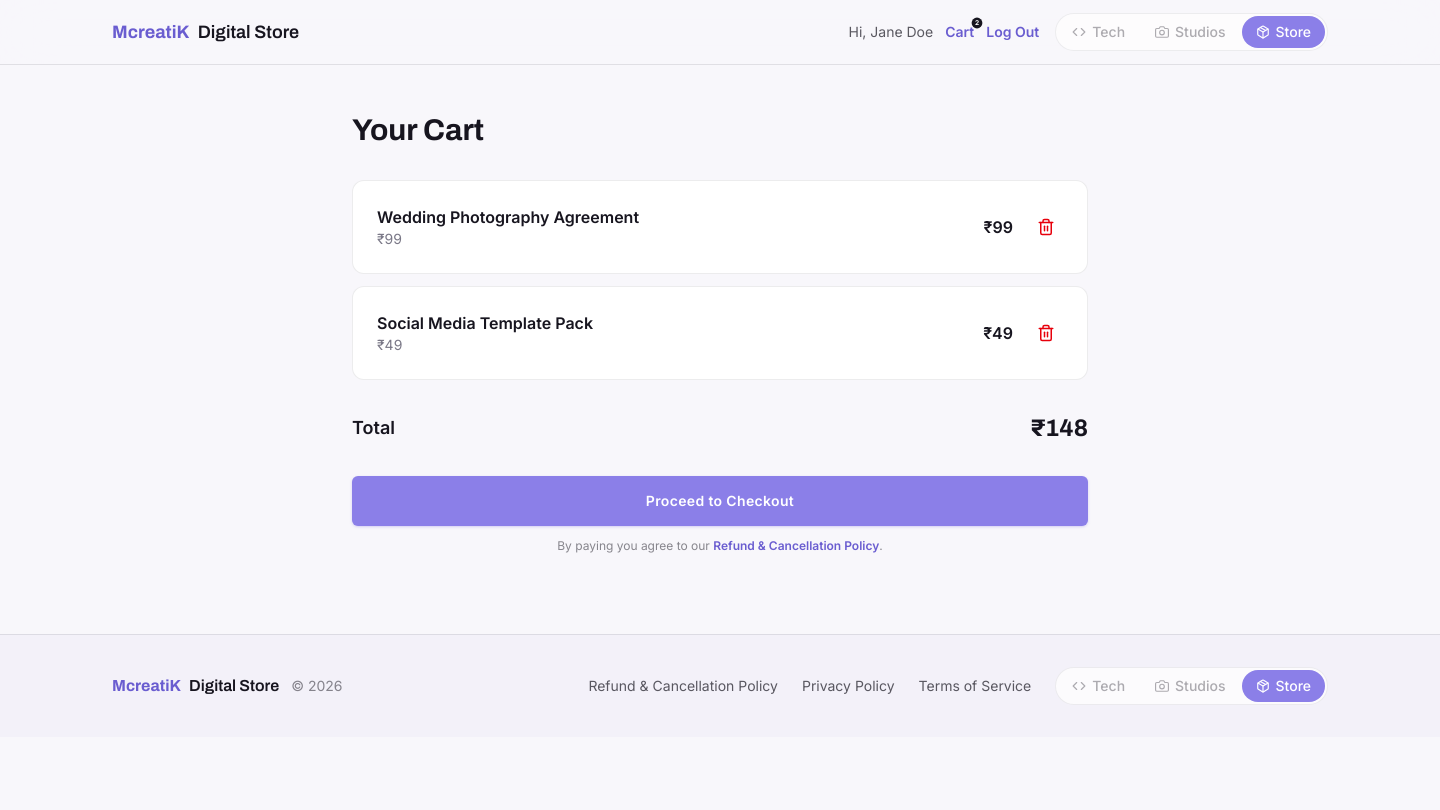
StoreCartPage — "Proceed to Checkout" (Task 14 wiring) › surfaces a checkout failure on the cart page instead of navigating away
Click the button "Proceed to Checkout" at x=720, y=501, box [352, 476, 1088, 526]
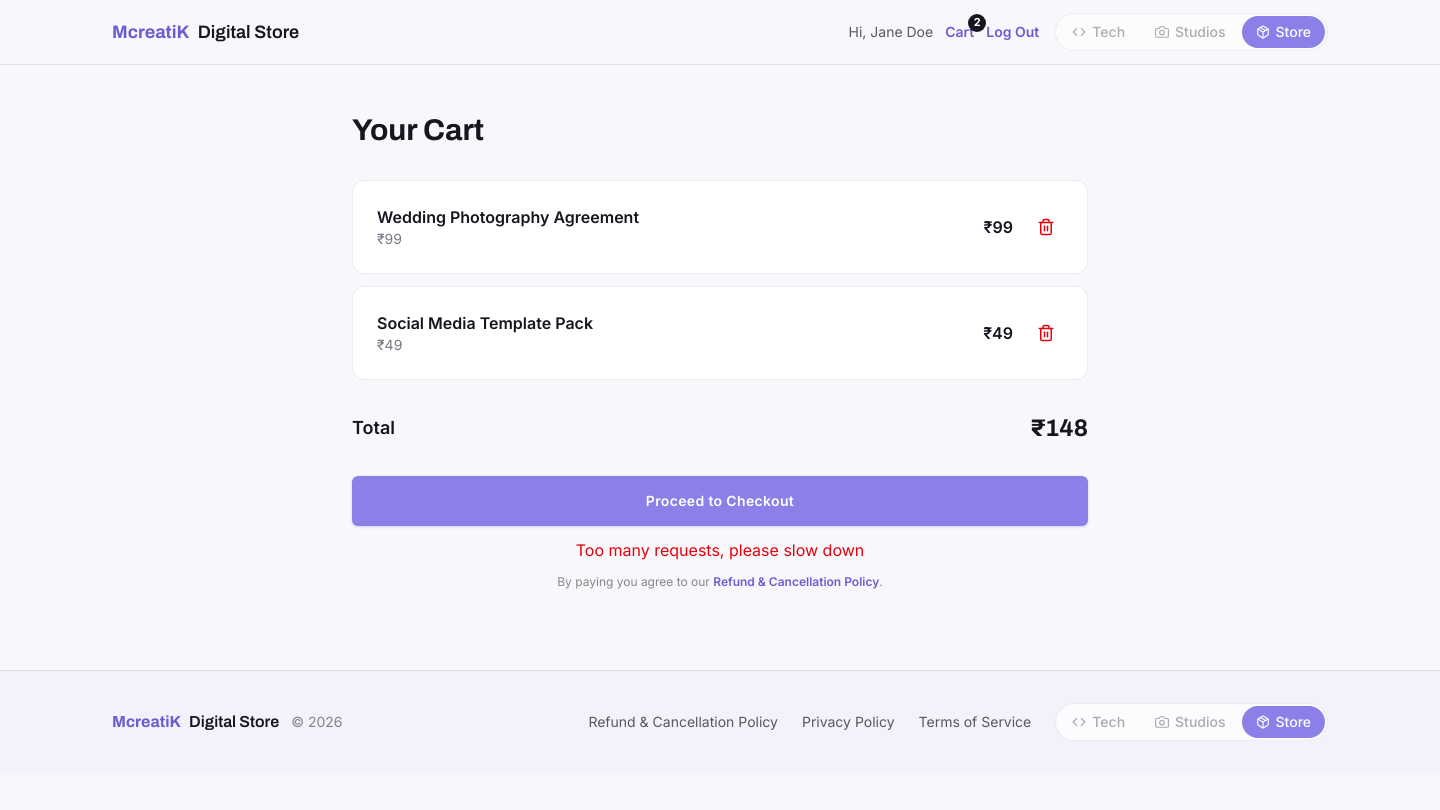
Check: the text "Wedding Photography Agreement" is shown, box [377, 205, 639, 229]
Check: the text "Too many requests, please slow down" is shown, box [576, 540, 864, 560]
